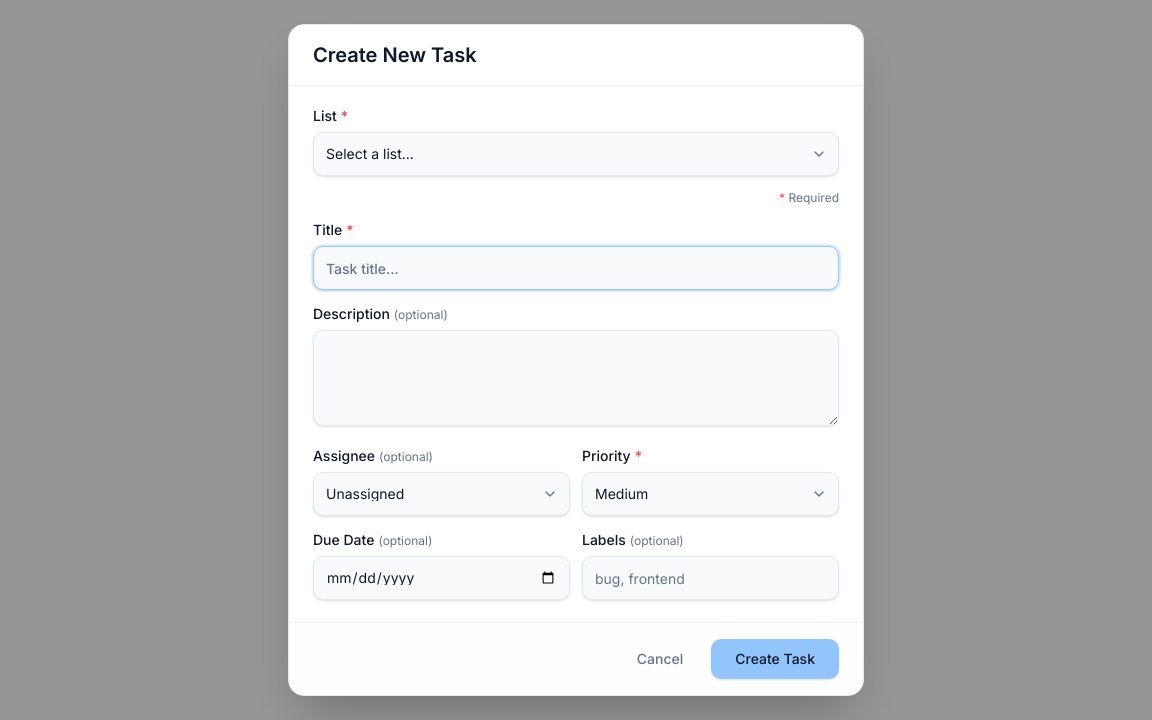
Scenario: CreateTaskModal › validates required fields on submit
The image size is (1152, 720).
Click the button "Create Task" at (775, 659), box [711,639,839,679]
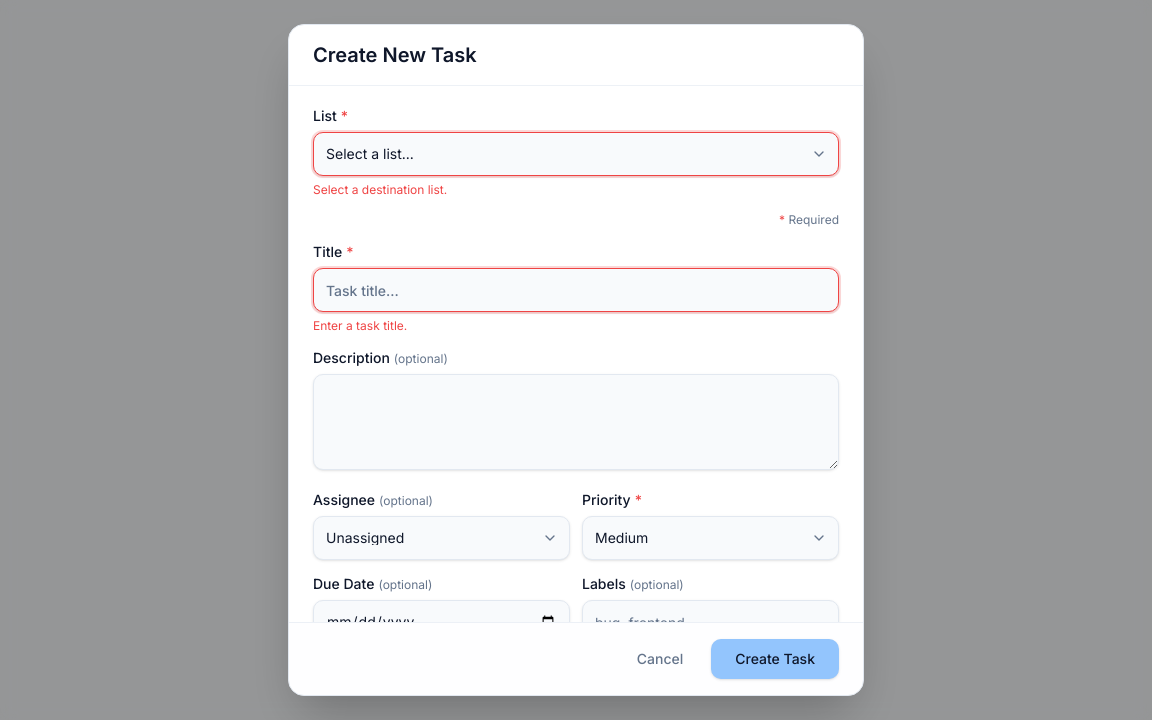
expect the text "Enter a task title." is shown: met, box [313,318,407,333]
